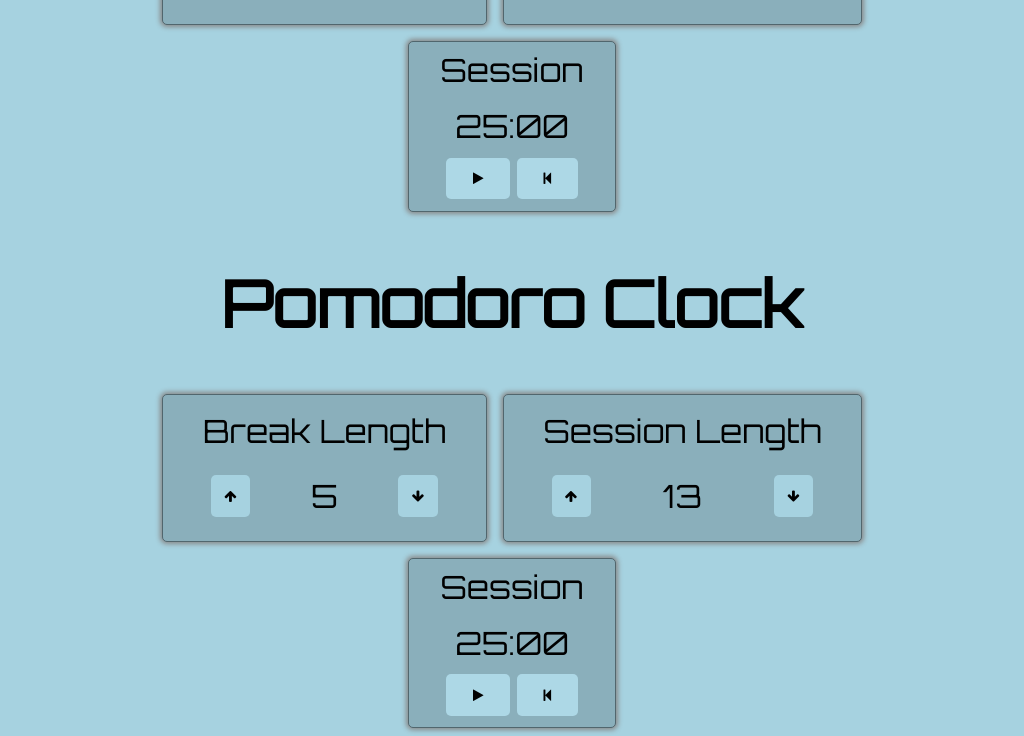
Test: App tests › Decrements sessionlength when session-decrement is clicked, and you can see the updated value
(page scrolled)
Click the button with id "session-decrement". click: (794, 496)
box: [774,476,813,517]
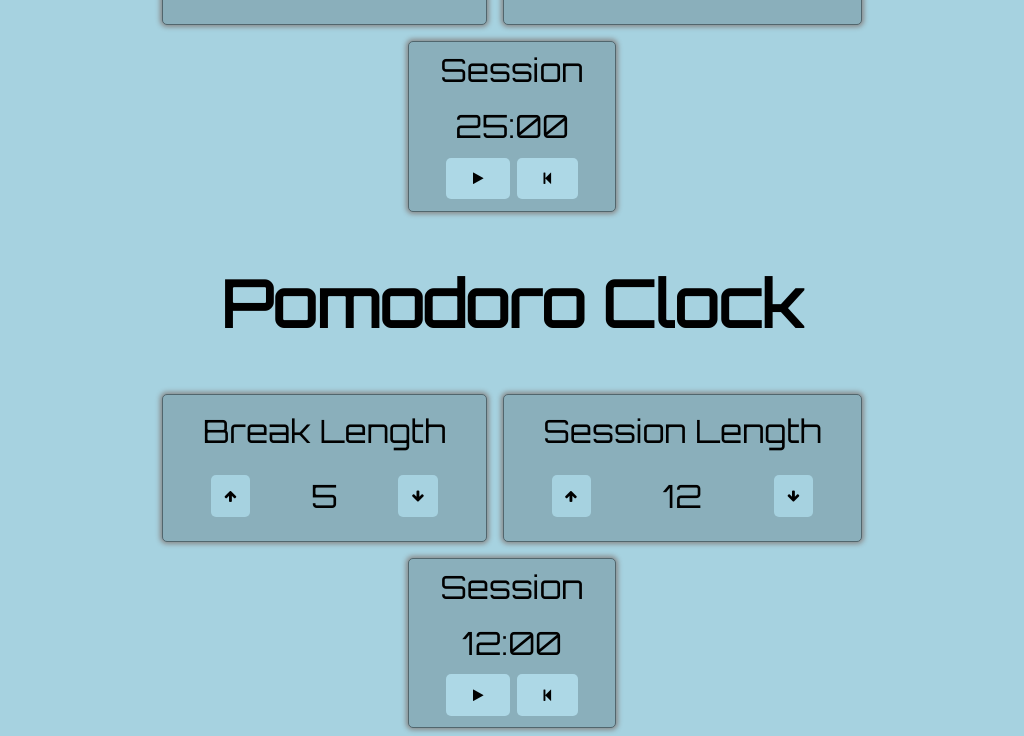
Check: the text with id "session-length" reads "12", box [663,476,702,516]
